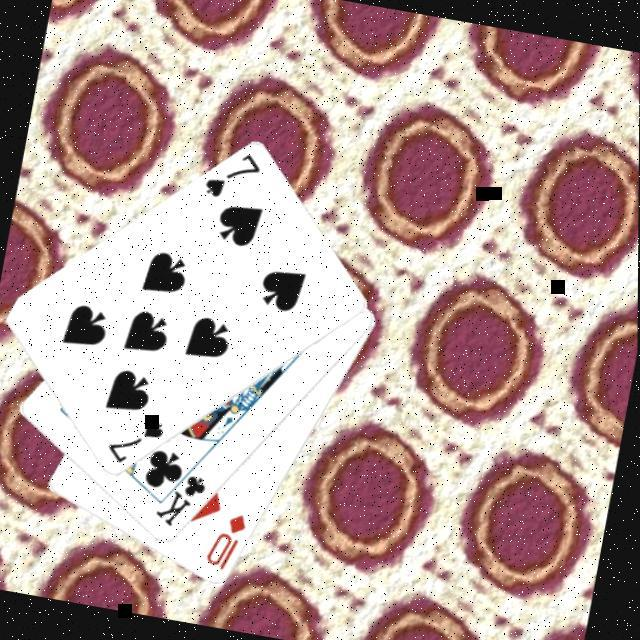10D: (203, 504, 254, 574)
7S: (104, 407, 171, 472), (200, 142, 268, 206)
KC: (152, 454, 215, 534)
